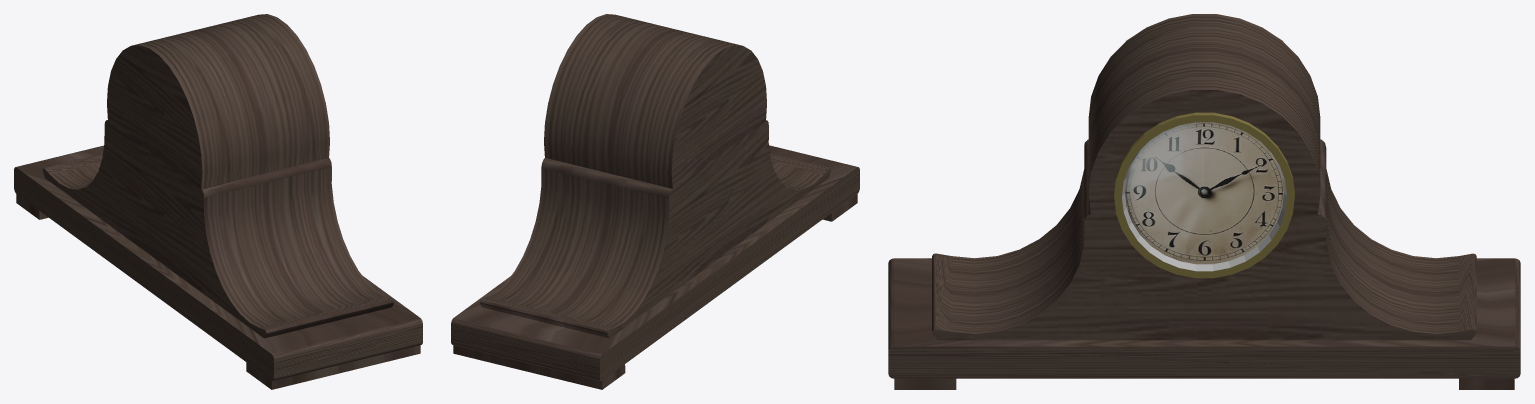
File: Old Clock.fbx
The picture shows the model from 3 angles, left to right: view 1: azimuth 30°, elevation 25°; view 2: azimuth 150°, elevation 25°; view 3: azimuth 270°, elevation 25°; orthographic projection. The views are drawn at different scales.
Visible parts, largest first — view 1: polySurface4; view 2: polySurface4; view 3: polySurface4.
Boxes of the visible parts, x1,y1,x2,y2 form: polySurface4: [14, 14, 422, 389]; polySurface4: [451, 14, 859, 389]; polySurface4: [888, 14, 1520, 389].
Bounding box in the file's own units: 1.11 × 1.72 × 3.36.
